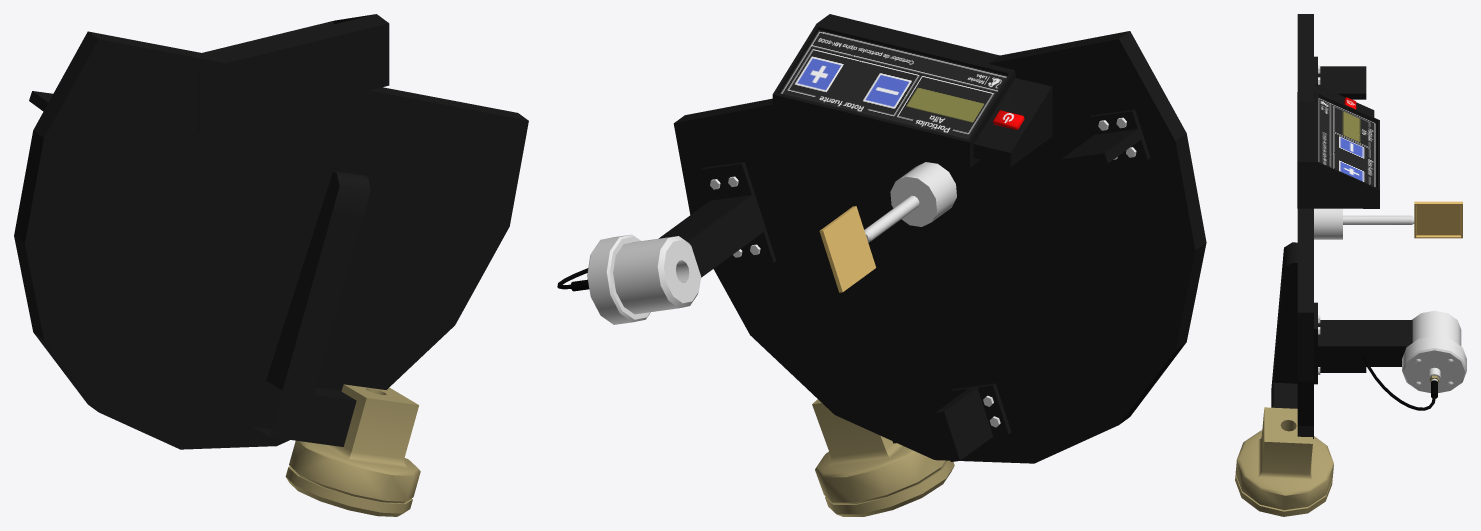
The model's file is Particle_counter.dae.
3 renders of one model, left to right at view 1: azimuth 30°, elevation 25°; view 2: azimuth 150°, elevation 25°; view 3: azimuth 270°, elevation 25°, orthographic. The views are drawn at different scales.
Parts seen in each view (by area): view 1: Particle counter, Movable detector; view 2: Particle counter, Movable detector; view 3: Particle counter, Movable detector.
Part boxes in pixels (x1,y1,x2,y2): Particle counter: (14,14,528,449); Movable detector: (252,171,420,516); Particle counter: (557,14,1206,463); Movable detector: (812,399,954,516); Particle counter: (1297,14,1466,438); Movable detector: (1235,242,1333,516).
Size of the model in its own units: 0.5809 by 0.2858 by 0.5406.
